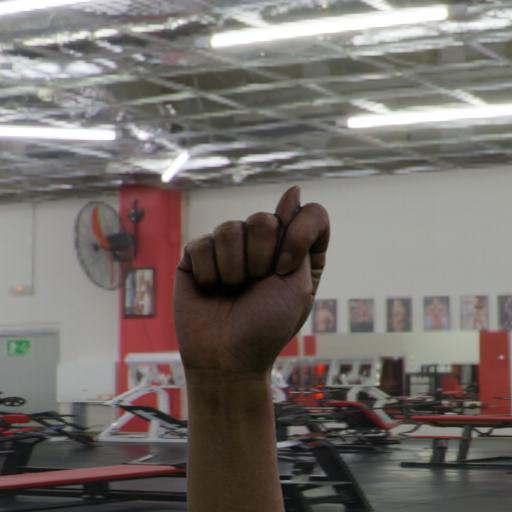T: (166, 178, 332, 373)
